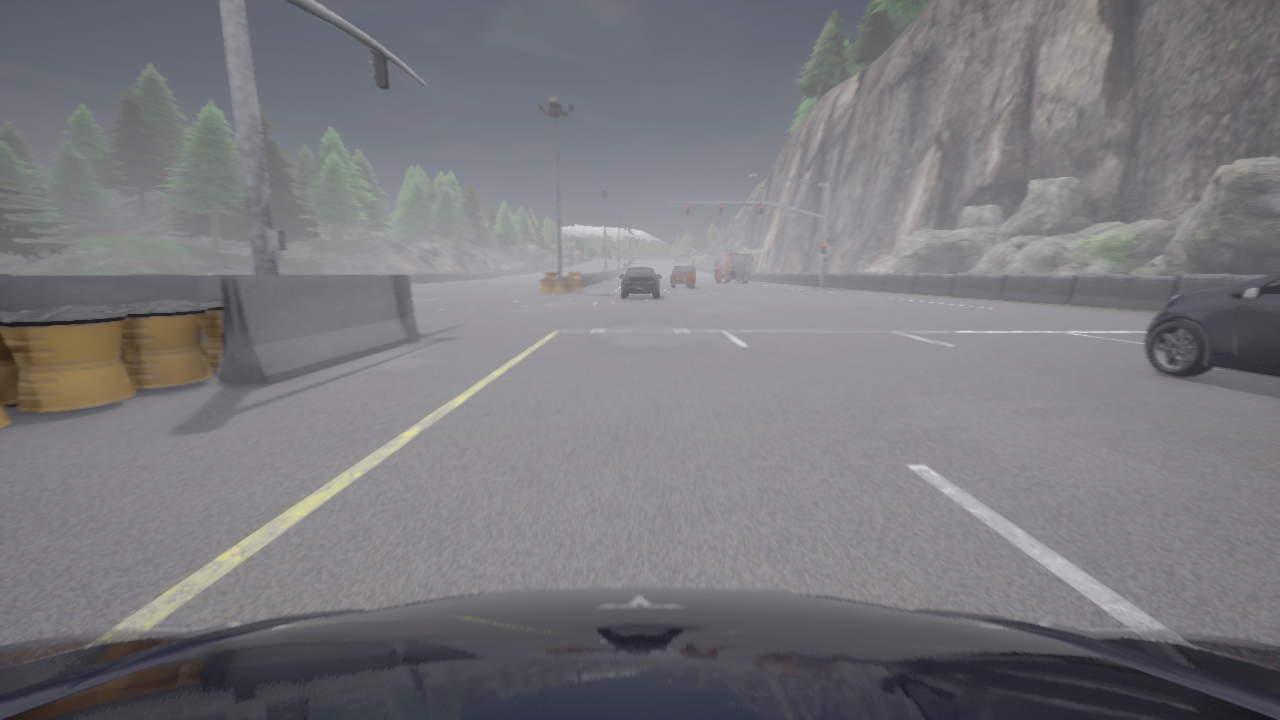cyclist: (0, 588, 1279, 719), (1145, 271, 1279, 376), (713, 248, 751, 283), (619, 267, 660, 297), (670, 264, 694, 287), (730, 279, 733, 288)
